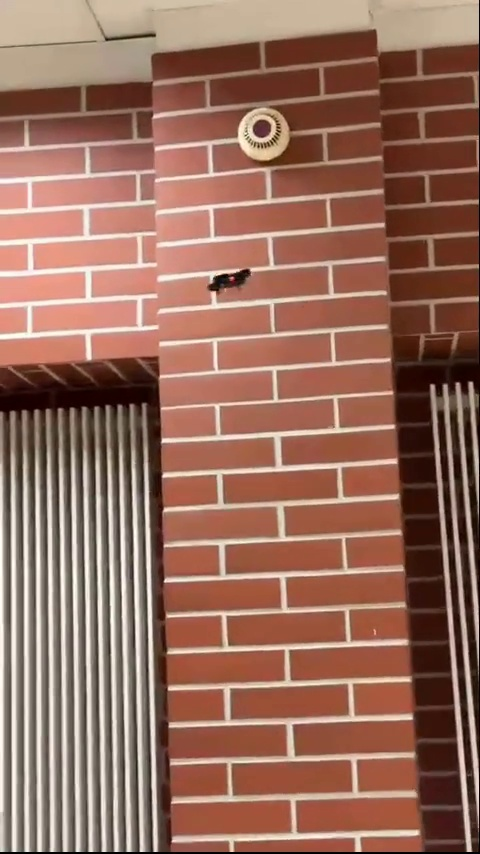drone: (210, 265, 252, 293)
